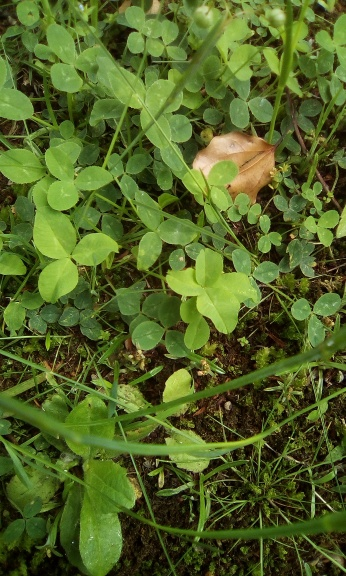4leaf: (164, 247, 258, 336)
